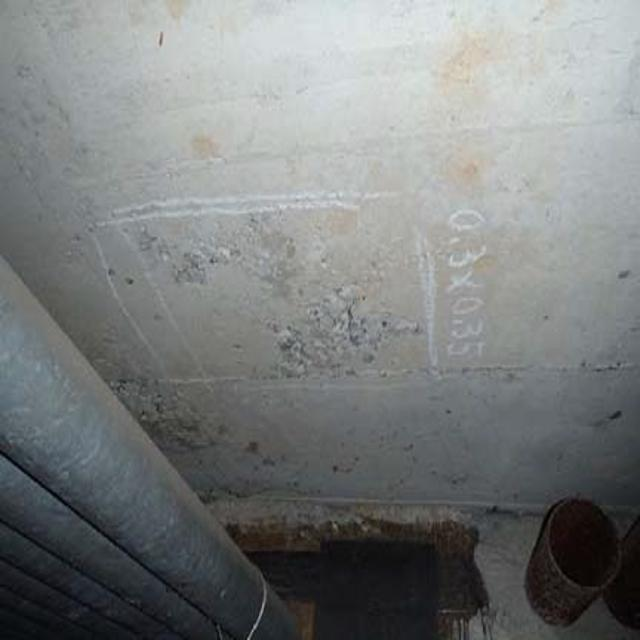spalling: (132, 223, 392, 380)
